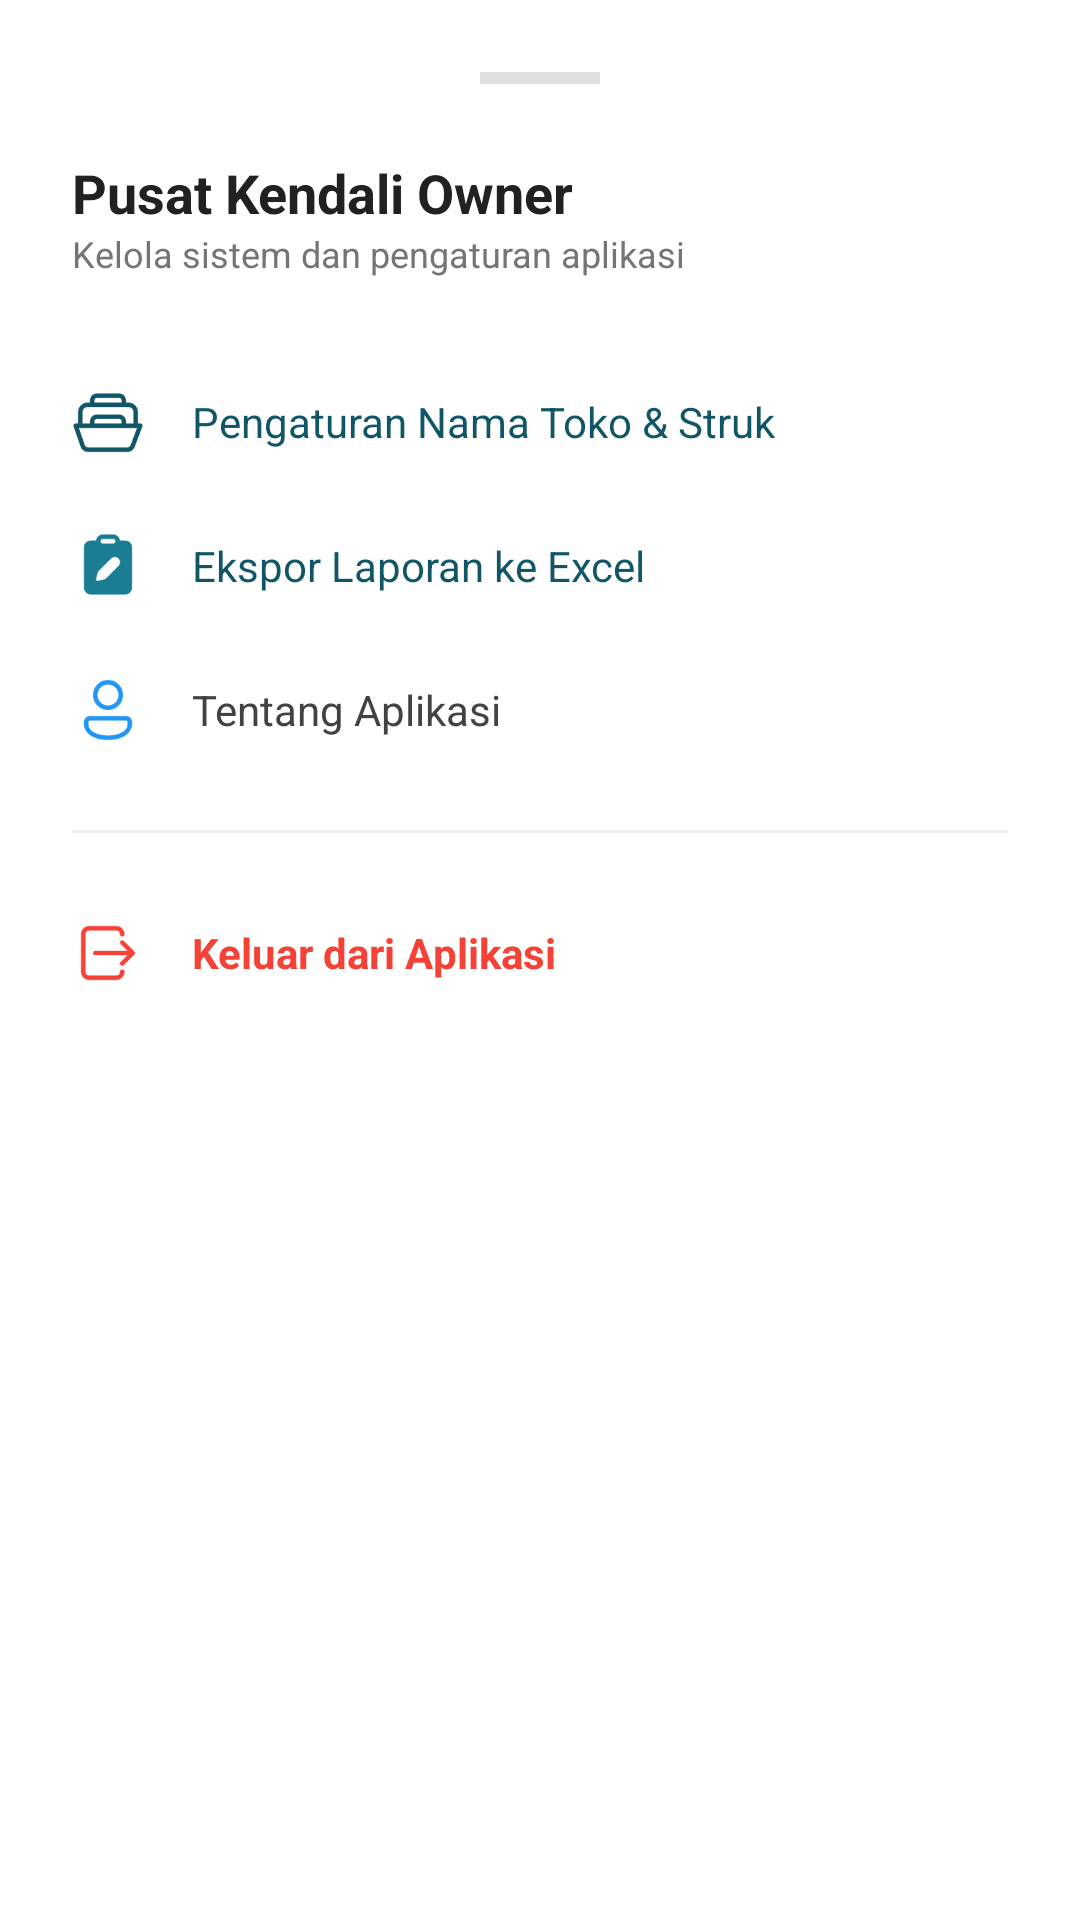

Named icons in this screenshot (1080*1920) and their bounding boxes, (x1, y1, x2, y2):
profile: (83, 680, 133, 740)
